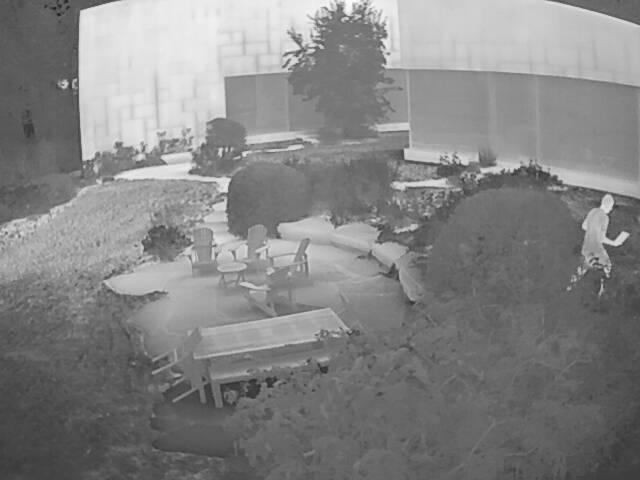person: (565, 192, 615, 304)
